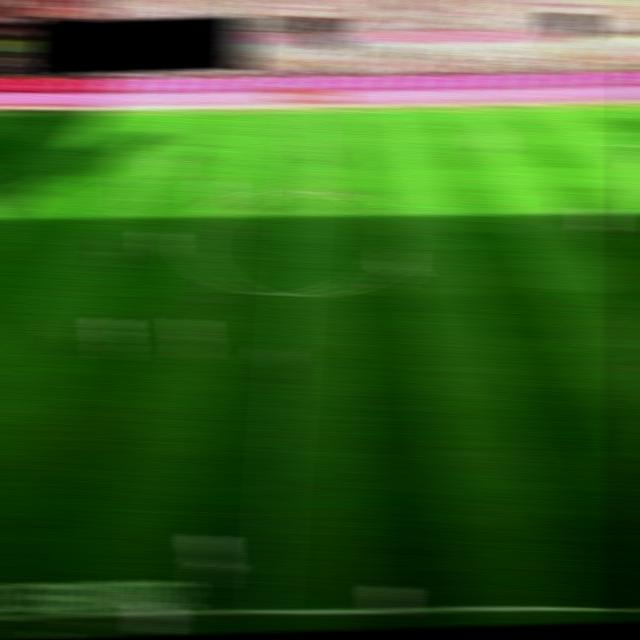bigarea_top_inner: (601, 139, 632, 151)
halfcircle_bottom: (277, 287, 307, 302)
halfcircle_top: (285, 185, 315, 196)
midline_bottom_intersection: (244, 589, 293, 632)
midline_top_intersection: (292, 106, 321, 117)
